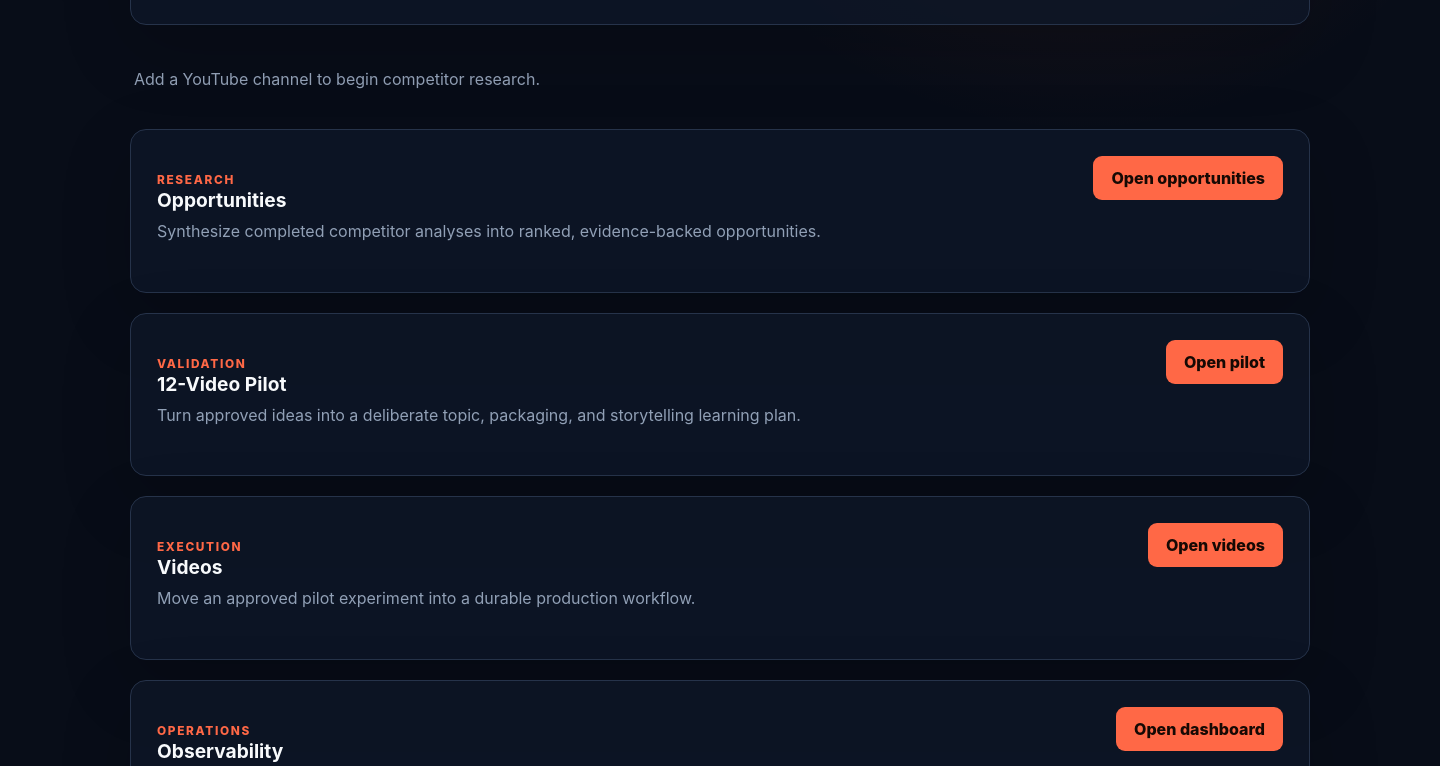
it: surfaces a failed pilot generation and offers a retry
(page scrolled)
Click the button "Open pilot". click: x=1224, y=362
box: x1=1166 y1=340 x2=1283 y2=384
(page scrolled)
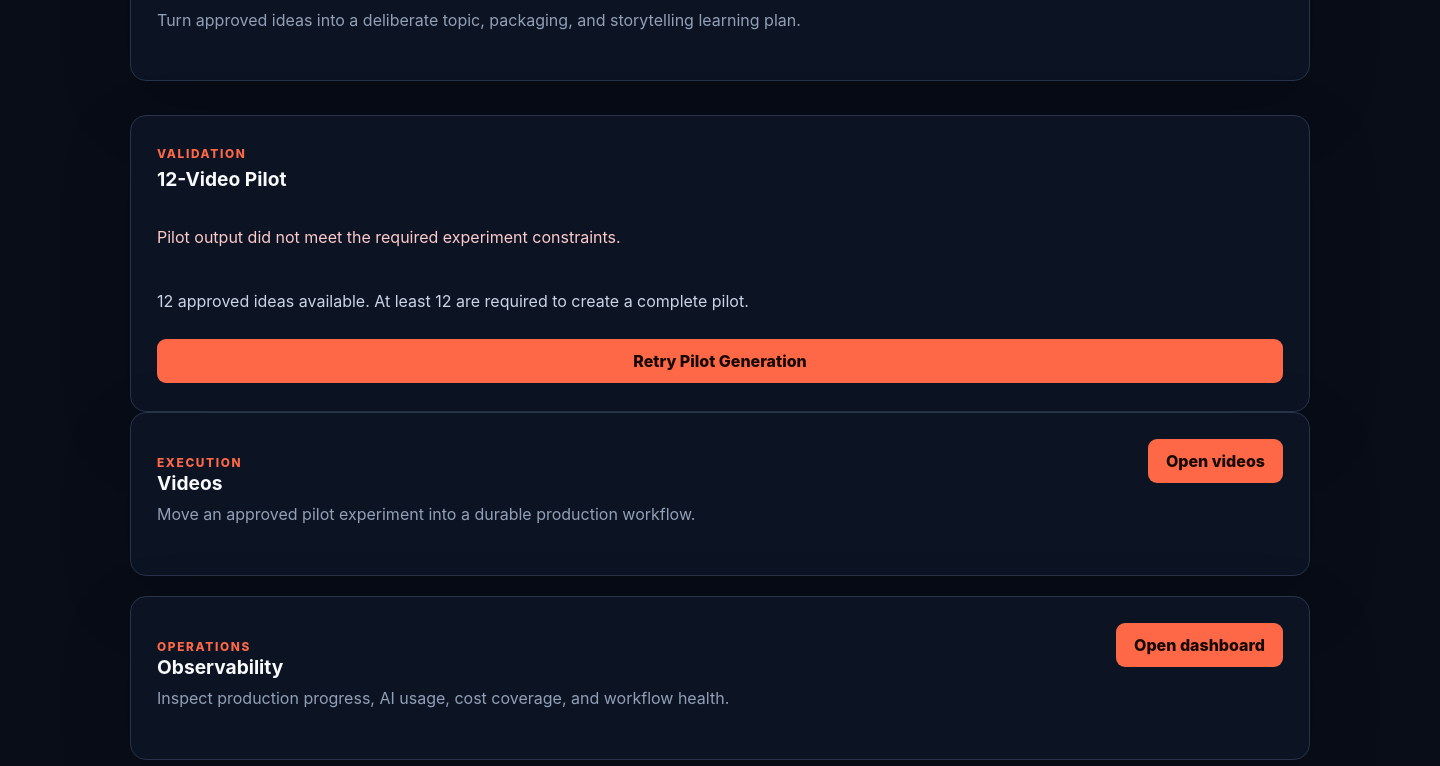
Expected: the message reads "Pilot output did not meet the required experiment constraints.", x1=157 y1=227 x2=621 y2=247
Expected: the button "Retry Pilot Generation" is shown, x1=157 y1=339 x2=1283 y2=383
